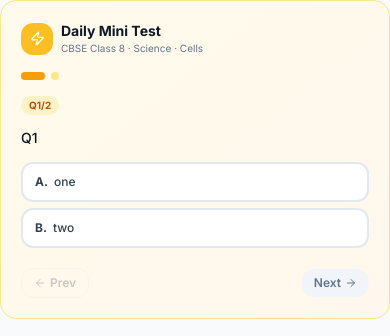
Test: Daily Mini Test auto-save › saves the attempt when the last question is answered, without pressing Finish
The width and height of the screenshot is (390, 336).
Click the button "A.one". click: (39, 181)
box: [21,162,369,202]
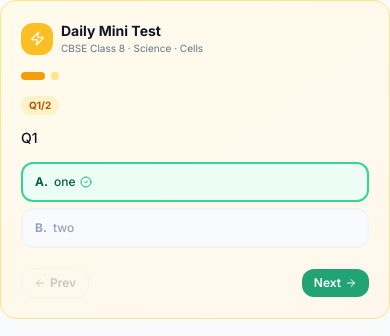
Click the button "Next". click: (335, 283)
box: [302,269,369,297]
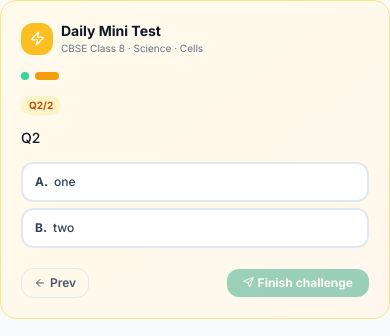
Click the button "B.two". click: (39, 227)
box: [21,208,369,248]
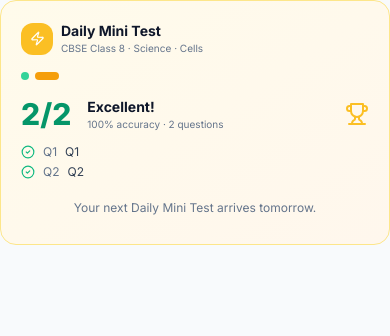
Expected: the text "Finish challenge" is gone
